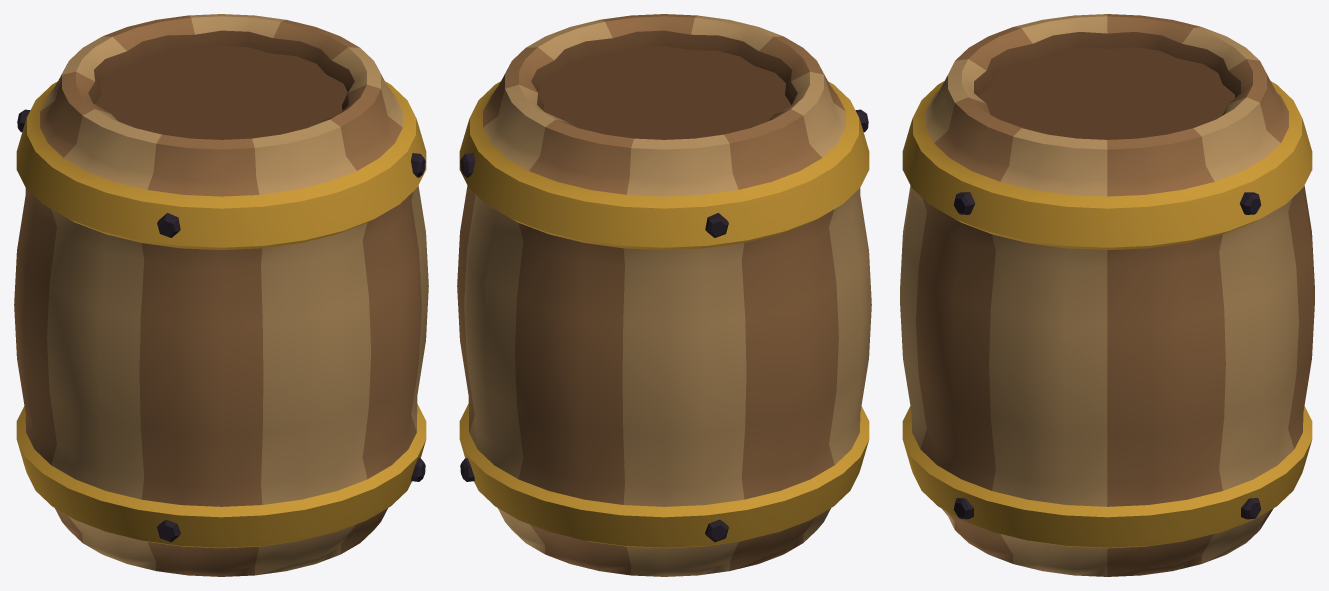
Rendered from Barrel_05.glb.
The picture shows the model from 3 angles, left to right: view 1: azimuth 30°, elevation 25°; view 2: azimuth 150°, elevation 25°; view 3: azimuth 270°, elevation 25°; orthographic projection.
Visible parts, largest first — view 1: Barrel_05; view 2: Barrel_05; view 3: Barrel_05.
Boxes of the visible parts, x1=… form: Barrel_05: x1=14, y1=14, x2=428, y2=576; Barrel_05: x1=457, y1=14, x2=871, y2=576; Barrel_05: x1=900, y1=14, x2=1314, y2=576.
Bounding box in the file's own units: 2.04 × 2.37 × 2.05.
